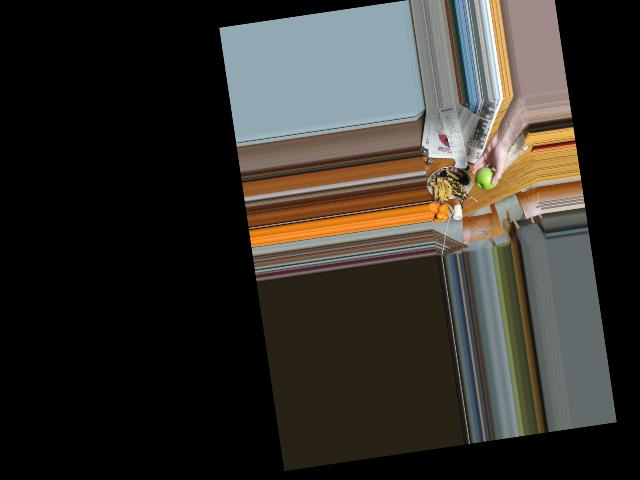apple: (473, 164, 500, 191)
